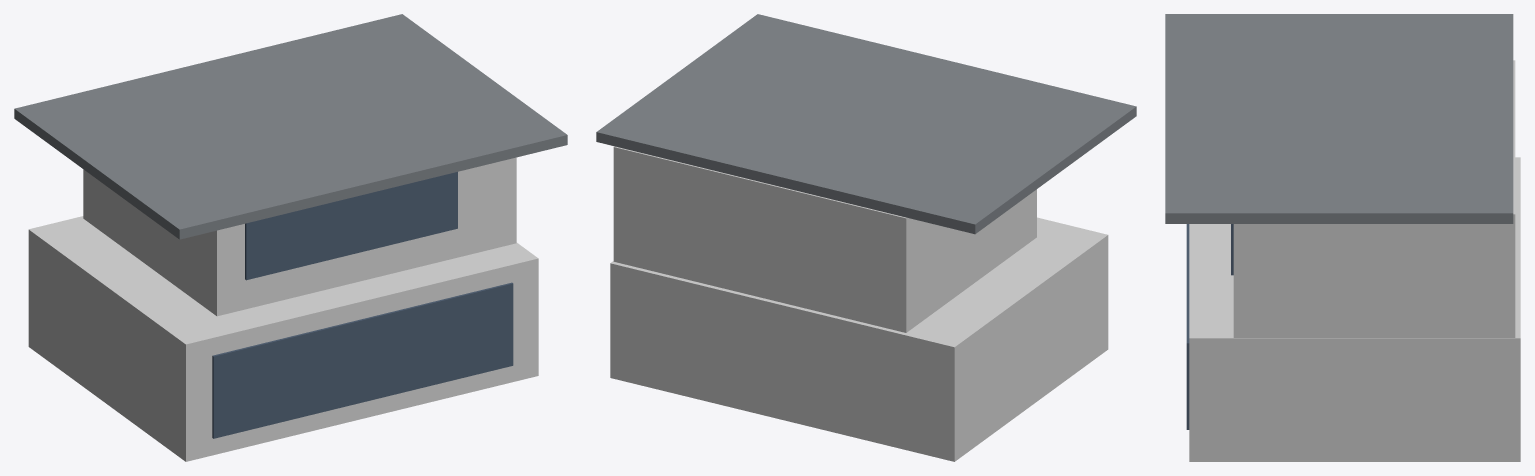
File: casalujo.glb
The picture shows the model from 3 angles, left to right: view 1: azimuth 30°, elevation 25°; view 2: azimuth 150°, elevation 25°; view 3: azimuth 270°, elevation 25°; orthographic projection. The views are drawn at different scales.
Visible parts, largest first — view 1: Mansion_Techo_Plano, Mansion_Piso1, Mansion_Ventanal_P1, Mansion_Piso2, Mansion_Ventanal_P2; view 2: Mansion_Piso1, Mansion_Techo_Plano, Mansion_Piso2; view 3: Mansion_Techo_Plano, Mansion_Piso1, Mansion_Piso2, Mansion_Ventanal_P1.
Boxes of the visible parts, bbox=[...] form: Mansion_Techo_Plano: bbox=[14, 14, 567, 239]; Mansion_Piso1: bbox=[28, 216, 538, 461]; Mansion_Ventanal_P1: bbox=[212, 282, 513, 438]; Mansion_Piso2: bbox=[83, 157, 516, 316]; Mansion_Ventanal_P2: bbox=[245, 172, 457, 280]; Mansion_Piso1: bbox=[610, 217, 1108, 461]; Mansion_Techo_Plano: bbox=[596, 14, 1136, 234]; Mansion_Piso2: bbox=[613, 146, 1036, 332]; Mansion_Techo_Plano: bbox=[1165, 14, 1513, 223]; Mansion_Piso1: bbox=[1189, 157, 1520, 461]; Mansion_Piso2: bbox=[1233, 60, 1515, 337]; Mansion_Ventanal_P1: bbox=[1186, 224, 1189, 429].
Size of the model in its own units: 1.21 by 0.73 by 0.9113.
